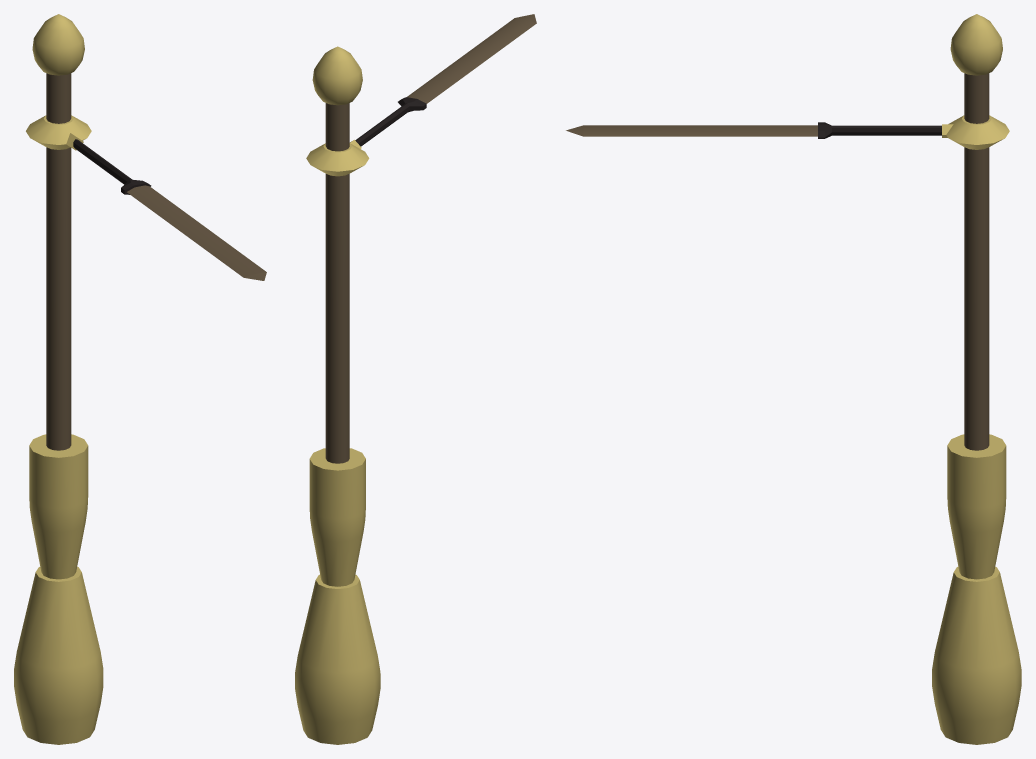
Rendered from trap_rotatesword.fbx.
3 views of the same model, side by side, from view 1: azimuth 30°, elevation 25°; view 2: azimuth 150°, elevation 25°; view 3: azimuth 270°, elevation 25° (orthographic). The views are drawn at different scales.
Parts seen in each view (by area): view 1: trap_rotate_base, trap_rotate_pole, sword; view 2: trap_rotate_base, trap_rotate_pole, sword; view 3: trap_rotate_base, trap_rotate_pole, sword.
Part boxes in pixels (x1,y1,x2,y2): trap_rotate_base: [14, 434, 103, 744]; trap_rotate_pole: [26, 14, 91, 450]; sword: [73, 139, 266, 280]; trap_rotate_base: [295, 448, 380, 744]; trap_rotate_pole: [306, 46, 369, 463]; sword: [355, 14, 536, 146]; trap_rotate_base: [932, 434, 1021, 744]; trap_rotate_pole: [942, 14, 1009, 450]; sword: [566, 122, 941, 138].
Size of the model in its own units: 0.7682 by 6.78 by 3.92.
